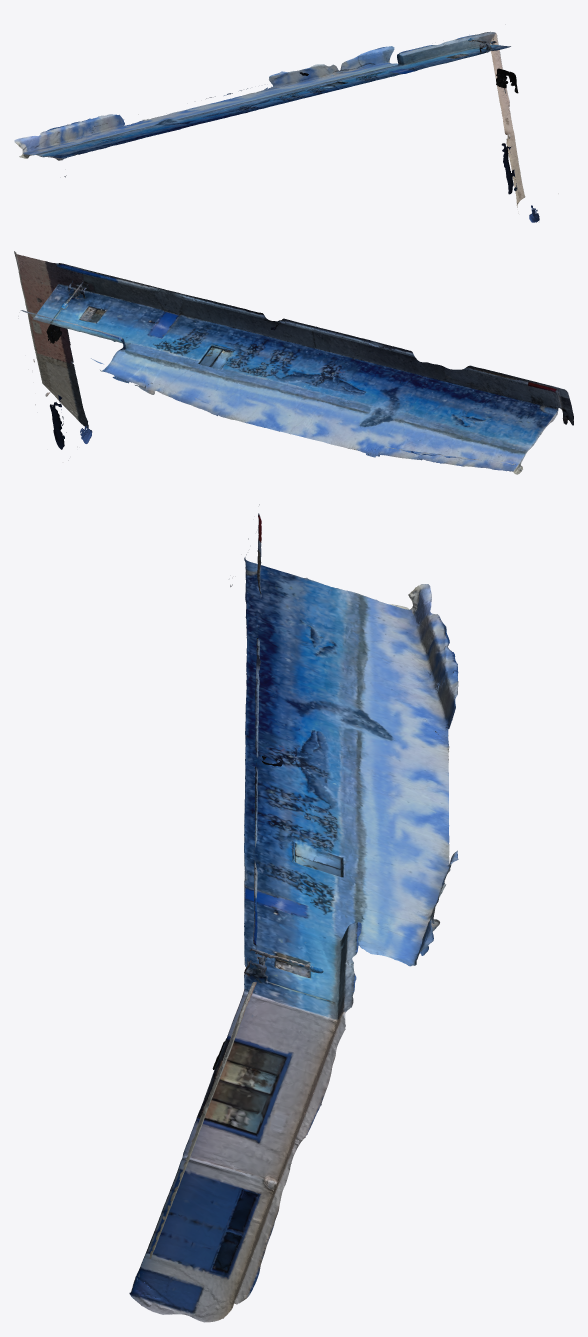
The model's file is whale.glb.
3 views of the same model, one above another, from view 1: azimuth 30°, elevation 25°; view 2: azimuth 150°, elevation 25°; view 3: azimuth 270°, elevation 25° (orthographic). The views are drawn at different scales.
Parts seen in each view (by area): view 1: Mesh_0; view 2: Mesh_0; view 3: Mesh_0.
Part boxes in pixels (bbox=[...]): Mesh_0: bbox=[14, 31, 558, 222]; Mesh_0: bbox=[14, 251, 573, 474]; Mesh_0: bbox=[129, 504, 458, 1322].
Bounding box in the file's own units: 37.24 × 13.38 × 10.66.
